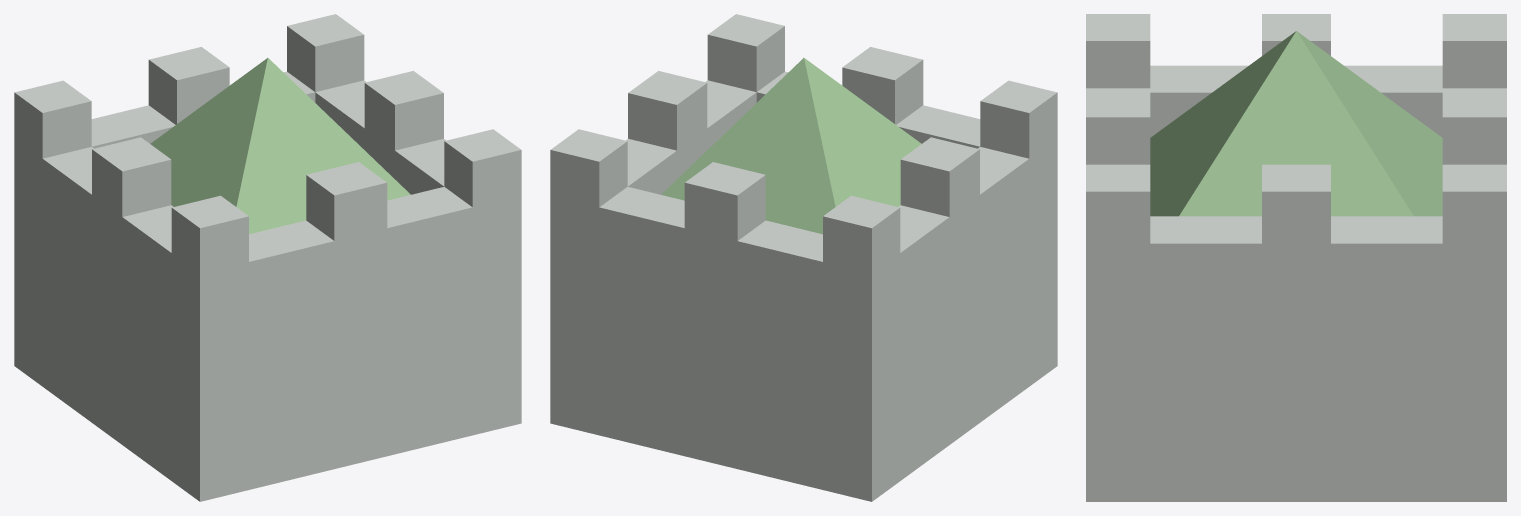
File: tower-defense-classic--tile-027.glb
The picture shows the model from 3 angles, left to right: view 1: azimuth 30°, elevation 25°; view 2: azimuth 150°, elevation 25°; view 3: azimuth 270°, elevation 25°; orthographic projection. The views are drawn at different scales.
Parts seen in each view (by area): view 1: tile_027, Group; view 2: tile_027, Group; view 3: tile_027, Group.
Boxes of the visible parts, x1=… form: tile_027: x1=14, y1=14, x2=521, y2=501; Group: x1=150, y1=58, x2=410, y2=234; tile_027: x1=550, y1=14, x2=1057, y2=501; Group: x1=661, y1=58, x2=921, y2=234; tile_027: x1=1086, y1=14, x2=1506, y2=501; Group: x1=1150, y1=31, x2=1442, y2=216.
Bounding box in the file's own units: 0.5901 × 0.5914 × 0.5901.
